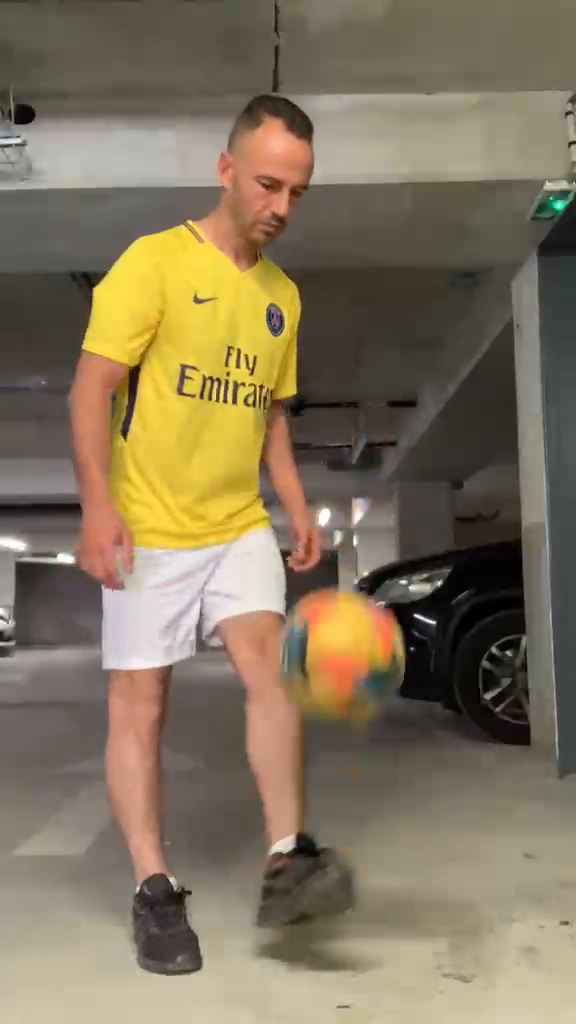ball: (280, 588, 409, 717)
